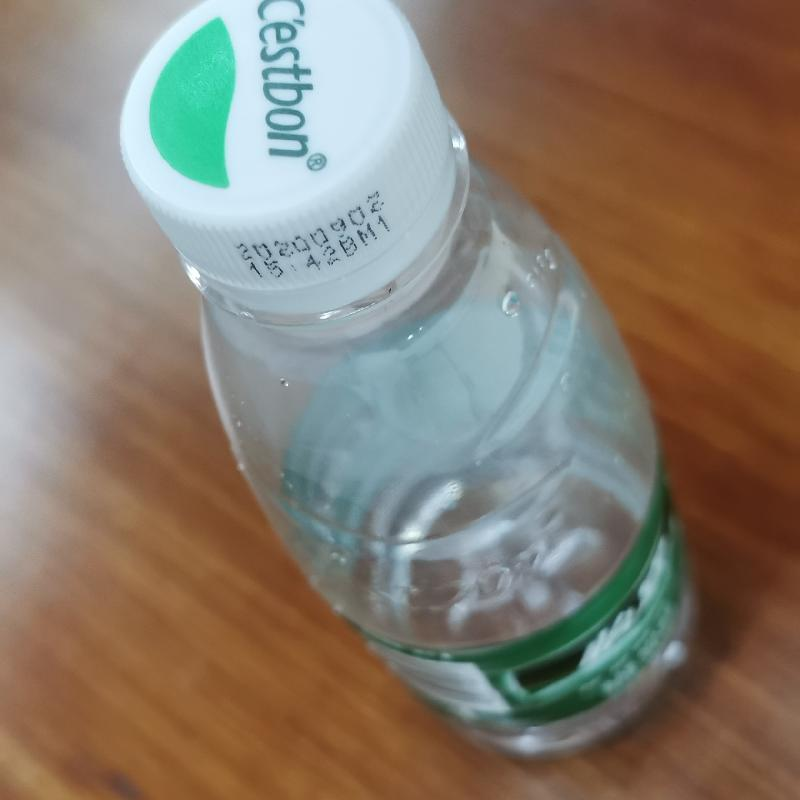bottles: (102, 3, 708, 762)
